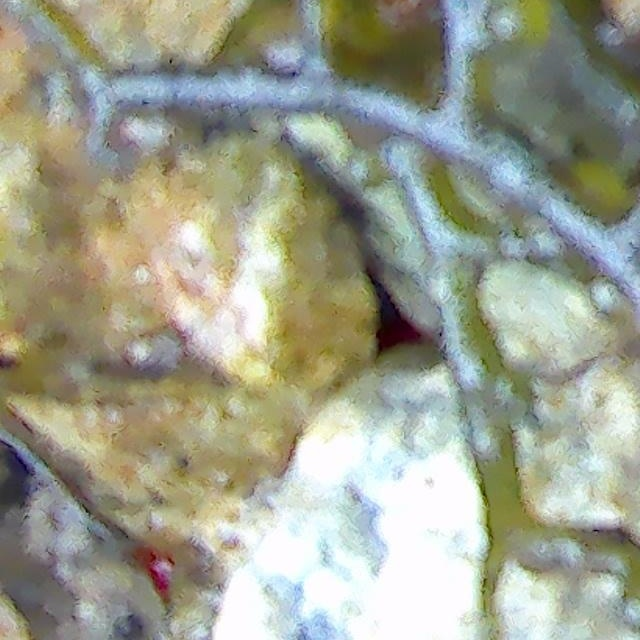SeaGrape: (486, 0, 554, 53)
